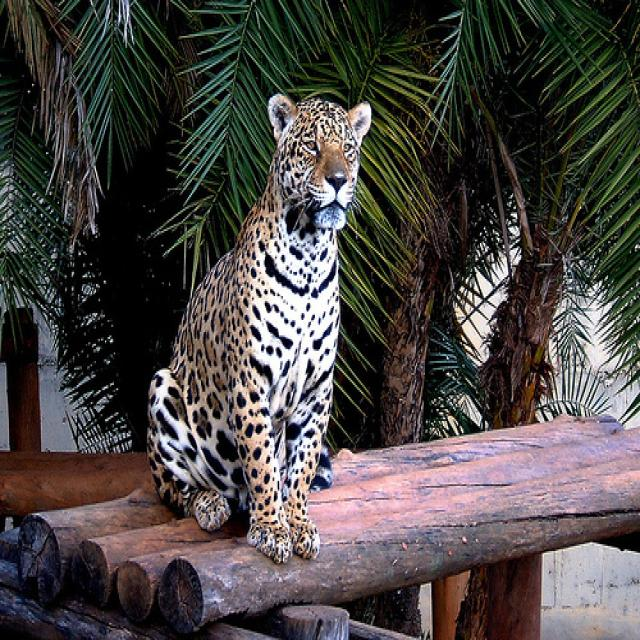Leopard: (141, 90, 372, 560)
